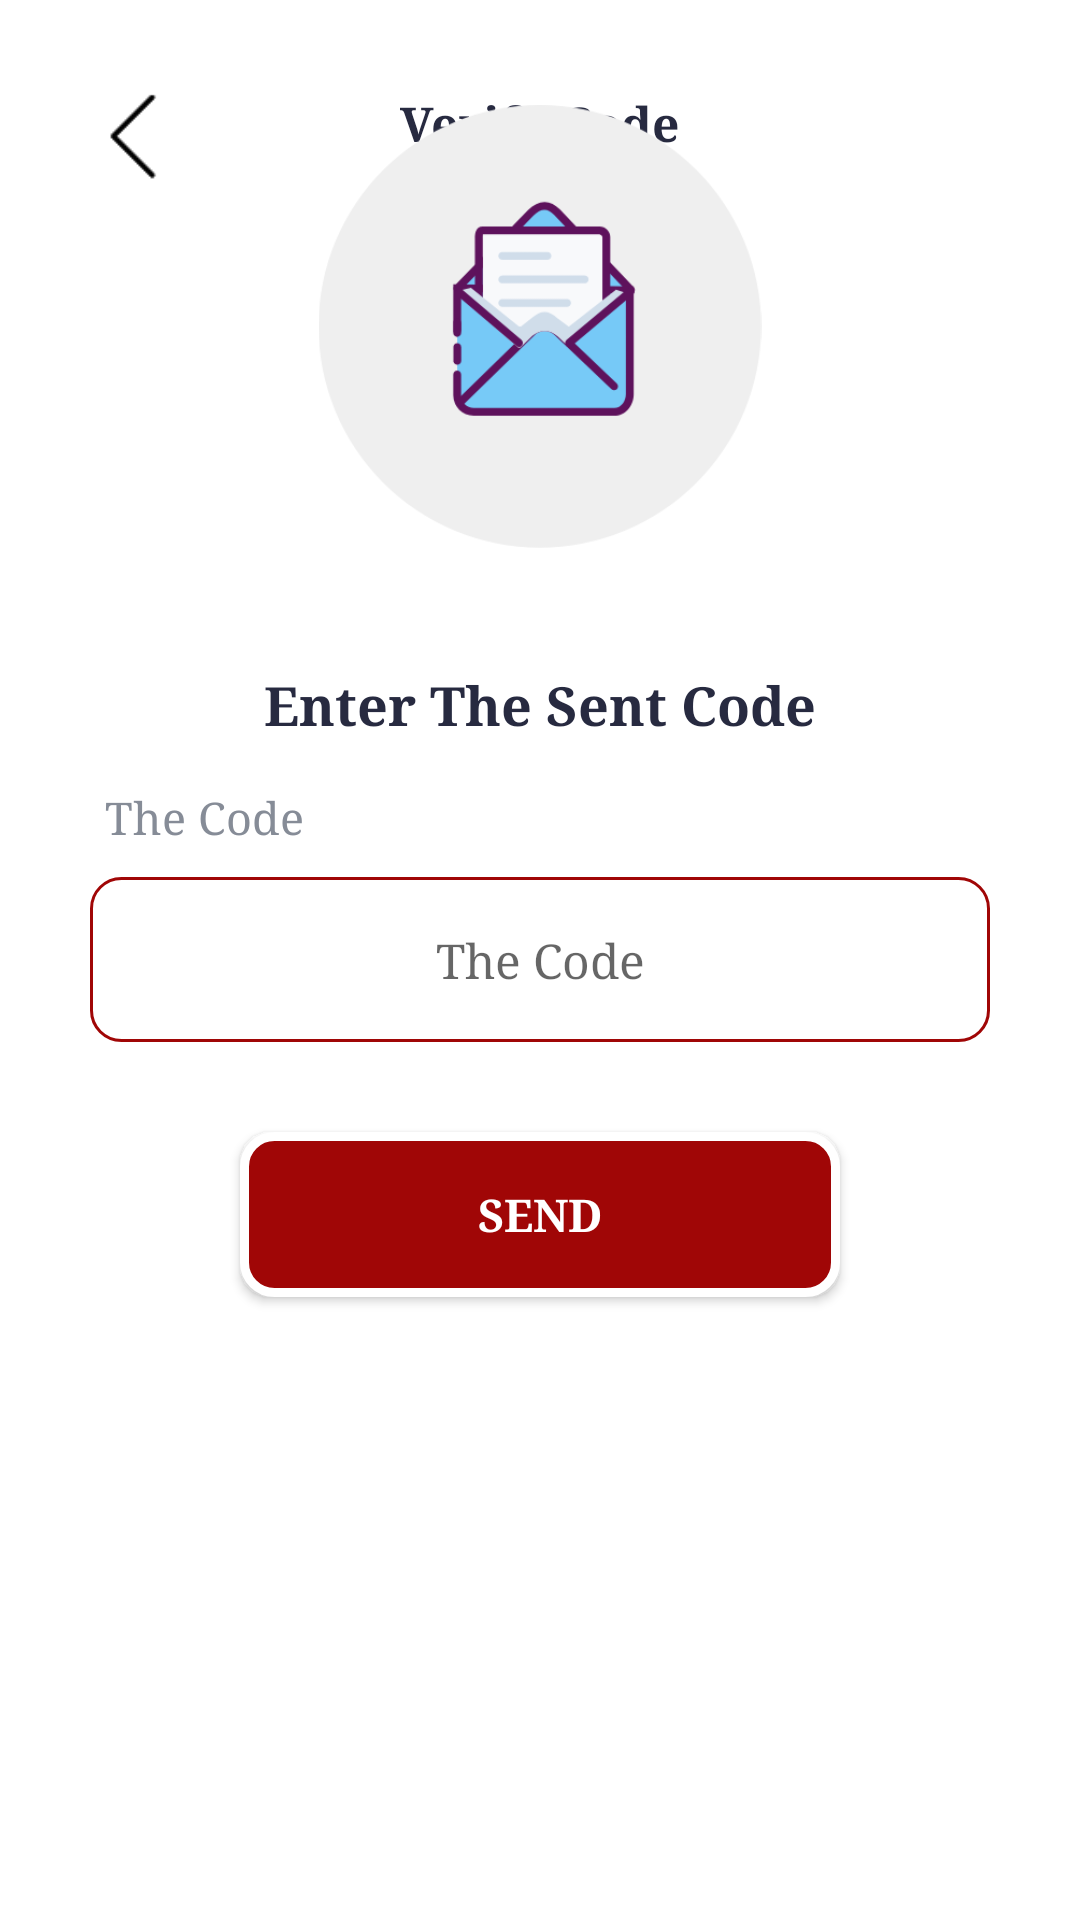

Icon bounding boxes for this 1080px×1920px phone screenshot, format (left=x1, top=y1, right=x2, bottom=y2):
left: (left=110, top=95, right=156, bottom=179)
